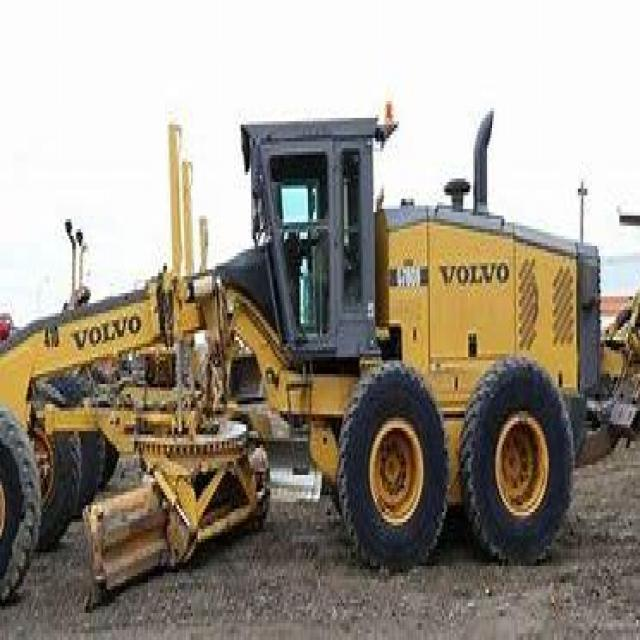Grader: (2, 51, 626, 596)
